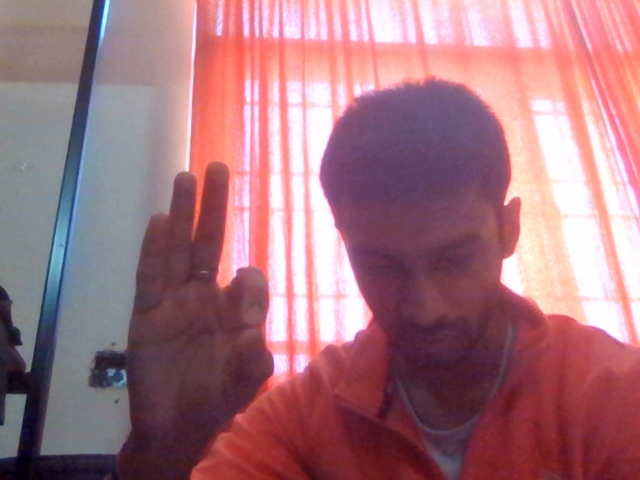F: (122, 139, 289, 480)
